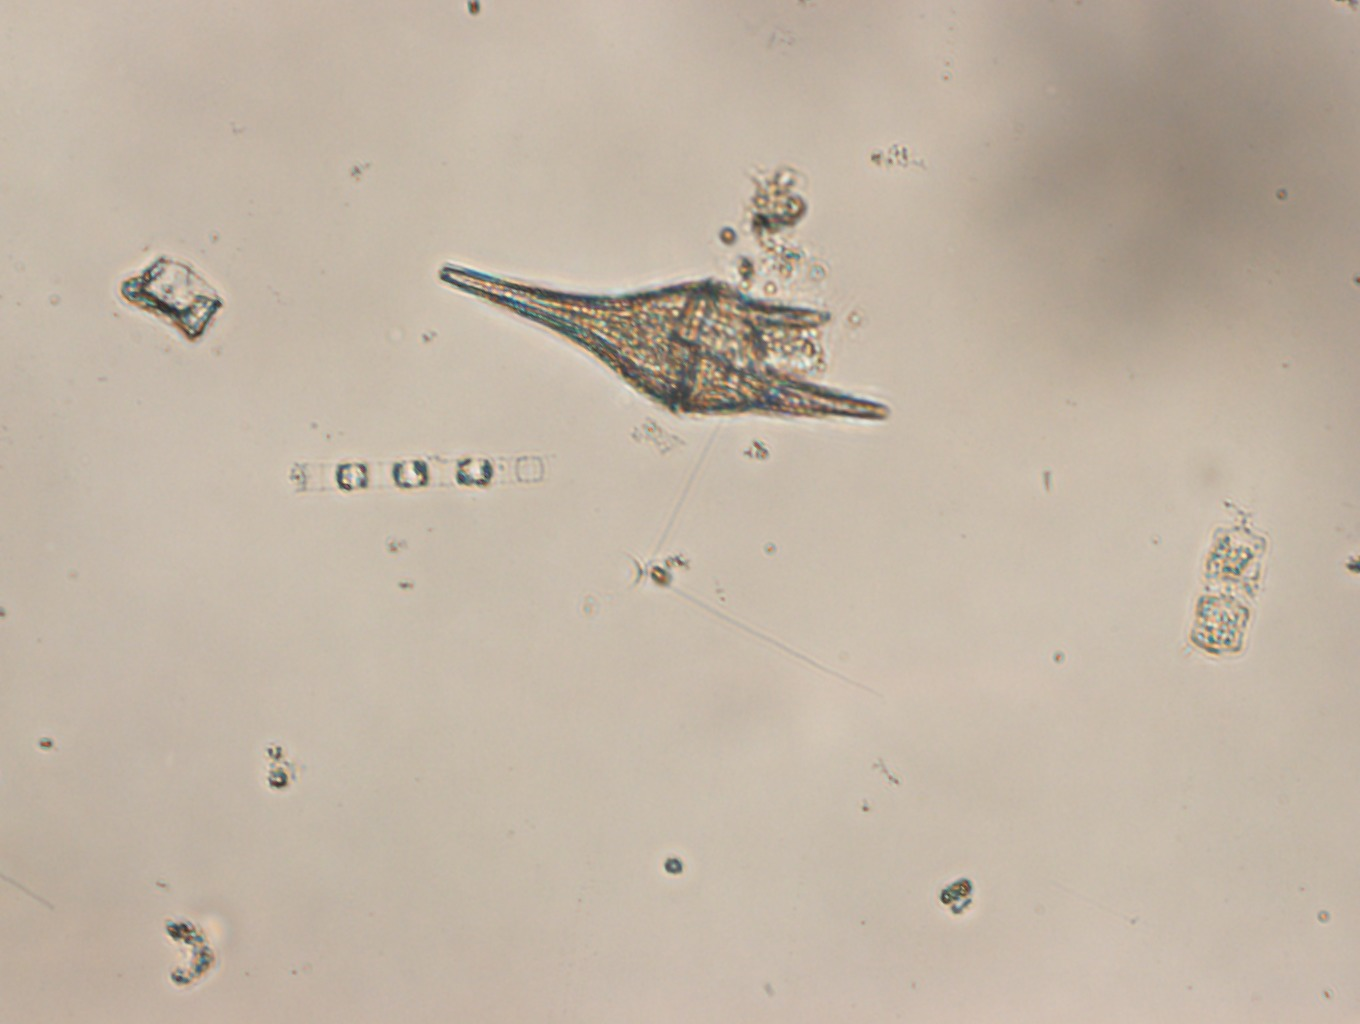ceratium furca: (438, 260, 893, 422)
chaetoceros: (1176, 497, 1276, 663)
skeletonema: (286, 452, 558, 494)
